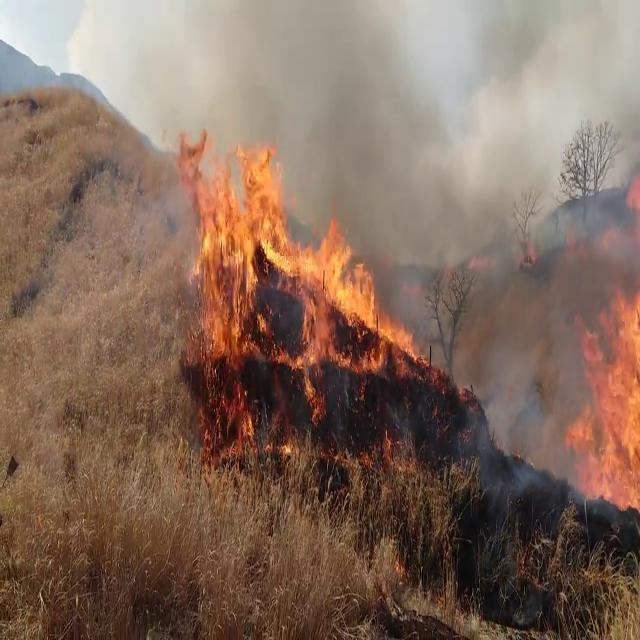Fire: (187, 134, 417, 437), (567, 170, 640, 538)
Smoke: (401, 0, 612, 434), (195, 0, 460, 223)
